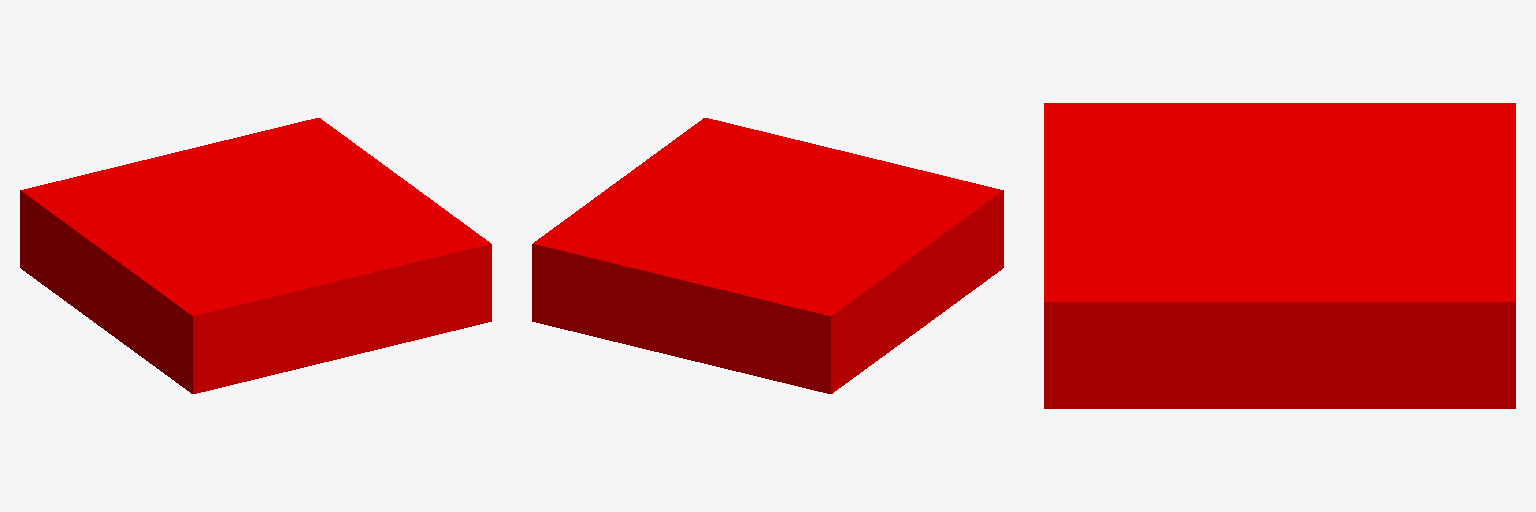
URDF robot description (cube):
<?xml version="1.0" ?>
<robot name="cube">

  <material name="red">
    <color rgba="1 0 0 1"/>
  </material>

  <link name="cube_link">
    <inertial>
      <origin xyz="0 0 0" />
      <mass value="1.0" />
      <inertia  ixx="1.0" ixy="0.0"  ixz="0.0"  iyy="100.0"  iyz="0.0"  izz="1.0" />
    </inertial>
    <visual>
      <origin xyz="0.0 0 0.0"/>
      <geometry>
        <box size="0.2 0.2 0.05" />
      </geometry>
      <material name="red"/>
    </visual>
    <collision>
      <origin xyz="0.0 0 0.0"/>
      <geometry>
        <box size="0.2 0.2 0.05" />
      </geometry>
    </collision>
  </link>

</robot>

--- Facts derived from the render (not from the file) ---
The picture shows the robot from 3 angles, left to right: view 1: azimuth 30°, elevation 25°; view 2: azimuth 150°, elevation 25°; view 3: azimuth 270°, elevation 25°; orthographic projection.
Model cube with 1 links and 0 joints (none), rooted at cube_link, posed all joints at 0.
Links seen in each view (by area): view 1: cube_link; view 2: cube_link; view 3: cube_link.
Boxes of the visible links, box(x1,y1,x2,y2) form: cube_link: box(20, 118, 491, 393); cube_link: box(532, 118, 1003, 393); cube_link: box(1044, 103, 1515, 408).
Bounding box of the posed robot: 0.2 × 0.2 × 0.05 m (x, y, z).
Geometry: primitives only (box / cylinder / sphere), no mesh files.